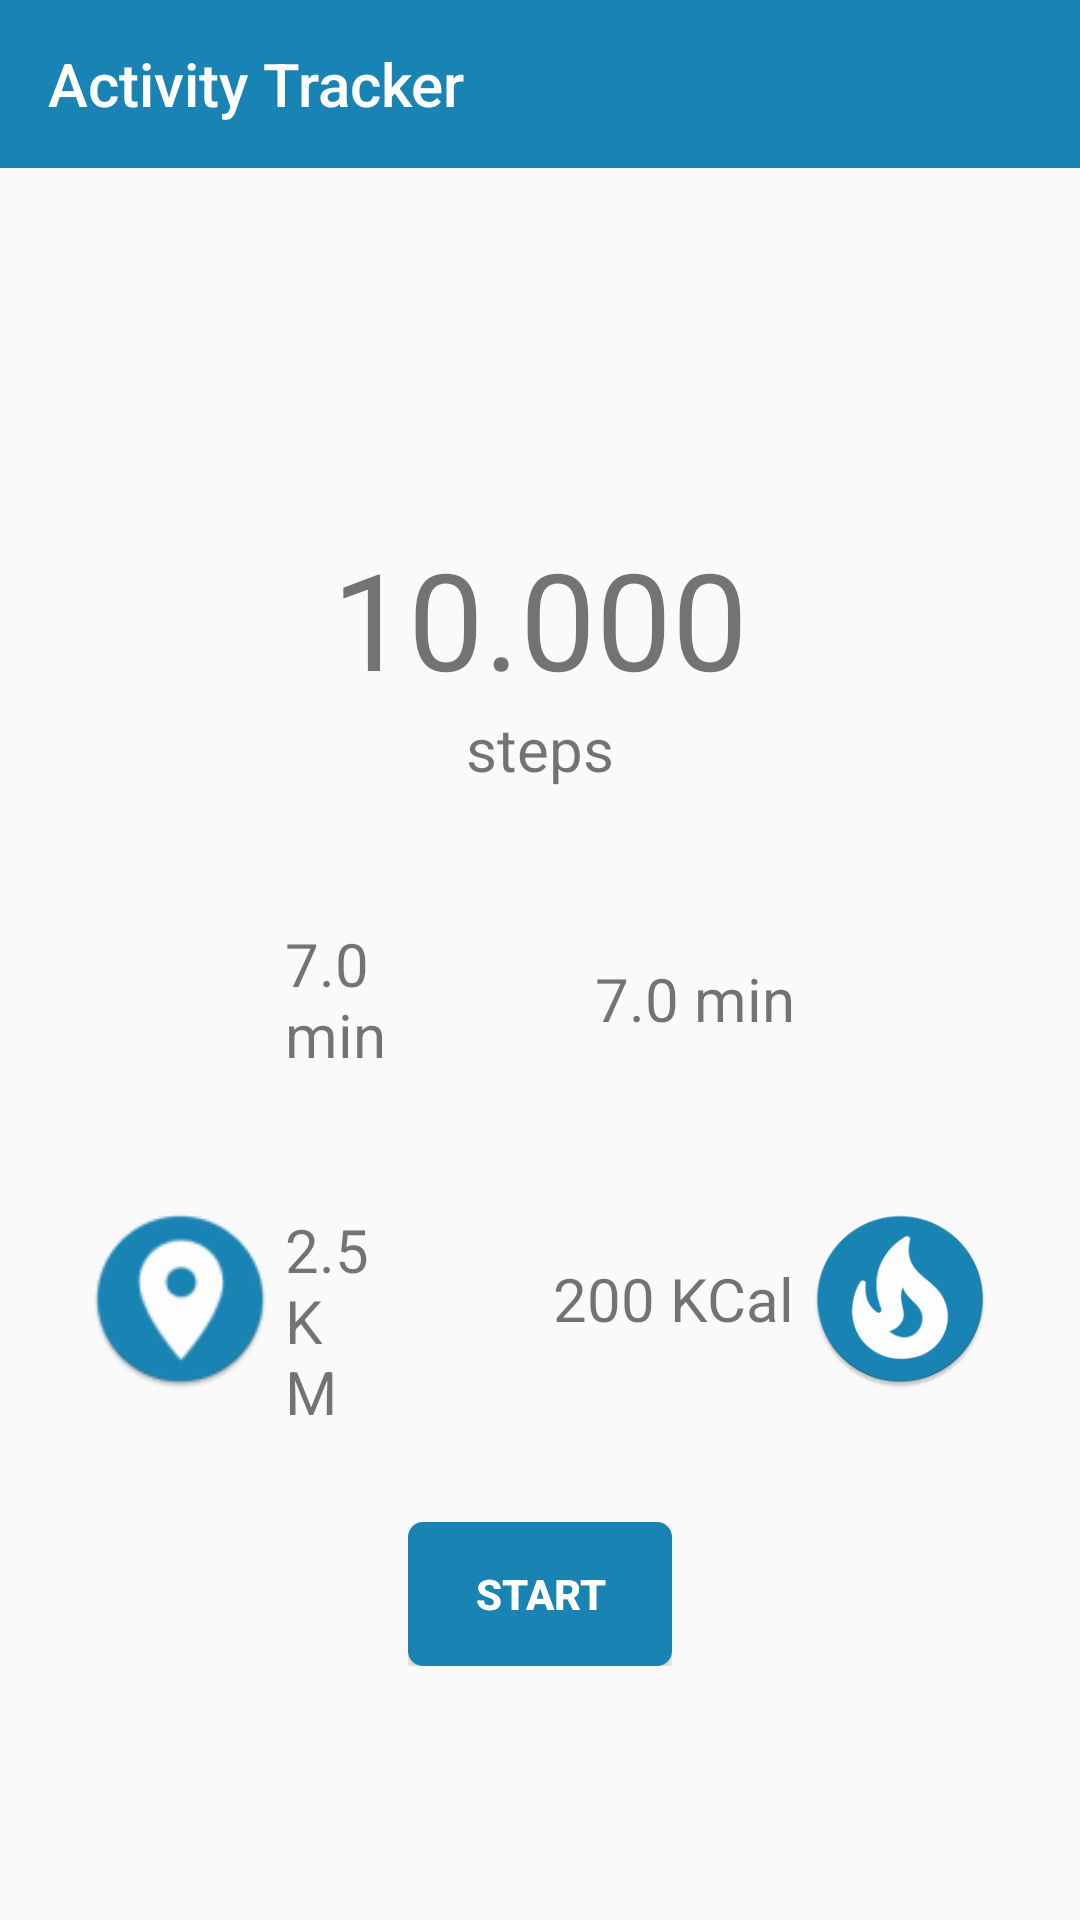

Where icons sit on this 1080px x 1920px app screen, as (x1=x1, y1=y1, x2=x2, y2=y2):
profile burrned calorie round: (x1=816, y1=1215, x2=984, y2=1386)
profile location: (x1=95, y1=1215, x2=265, y2=1386)
